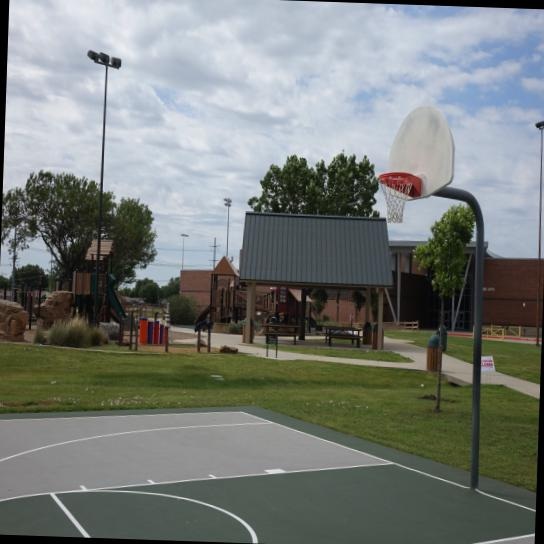basketball-hoop: (376, 170, 416, 225)
